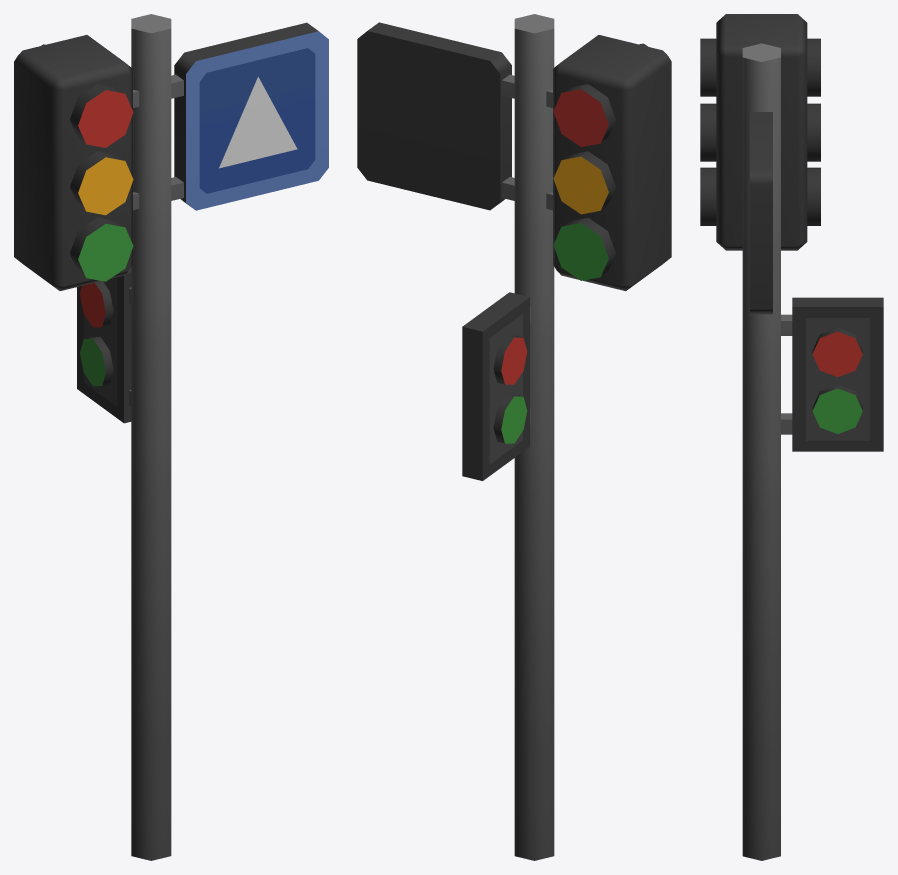
Rendered from Traffic Light.fbx.
3 views of the same model, side by side, from view 1: azimuth 30°, elevation 25°; view 2: azimuth 150°, elevation 25°; view 3: azimuth 270°, elevation 25° (orthographic). The views are drawn at different scales.
Visible parts, largest first — view 1: Traffic_Light; view 2: Traffic_Light; view 3: Traffic_Light.
Boxes of the visible parts, bbox=[...] form: Traffic_Light: bbox=[14, 14, 328, 860]; Traffic_Light: bbox=[357, 14, 671, 860]; Traffic_Light: bbox=[700, 14, 883, 860].
Size of the model in its own units: 142 by 387 by 80.43.
